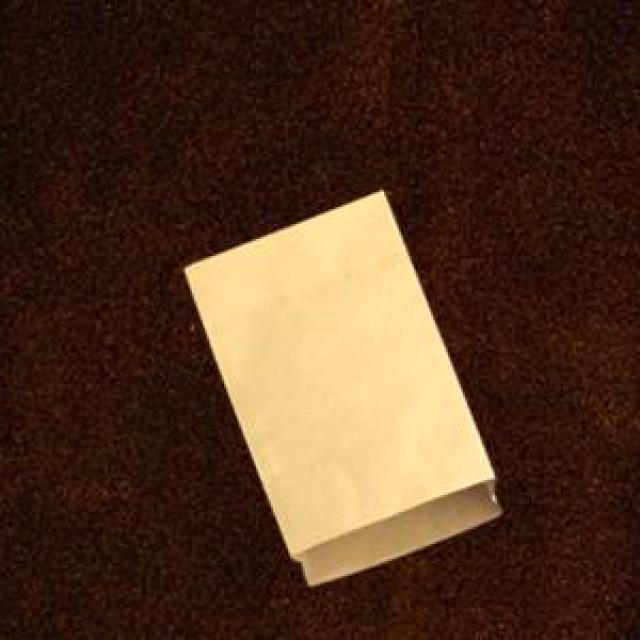Paper_Bag: (183, 188, 498, 582)
